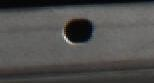holes: (62, 17, 95, 45)
